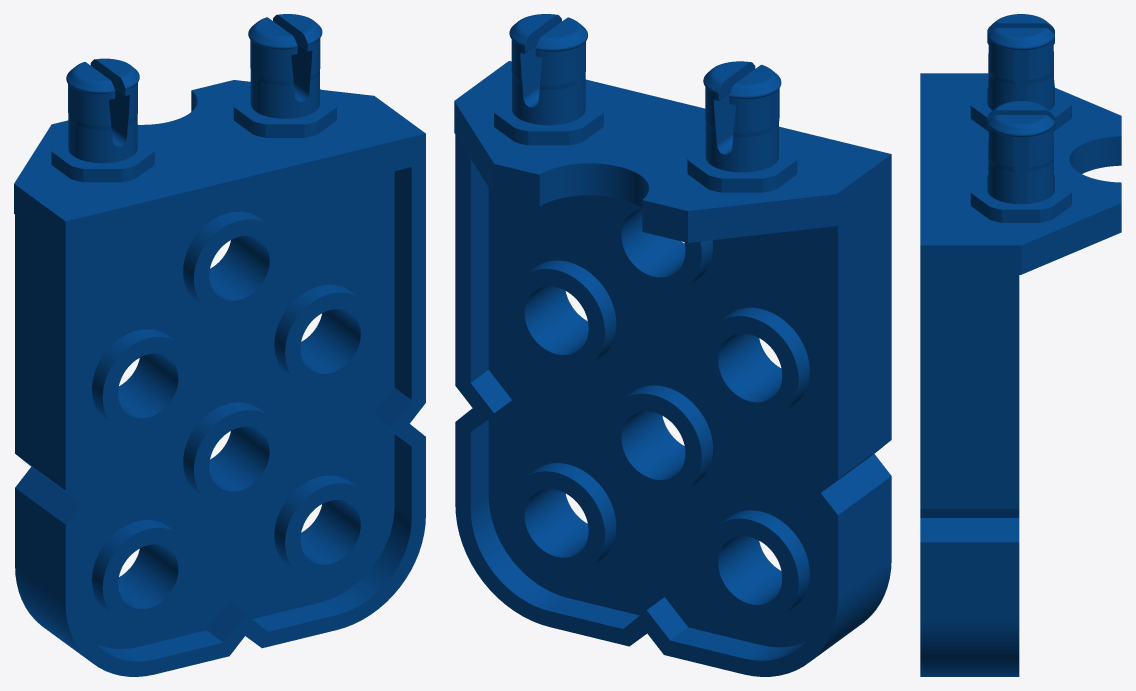
3 views of the same model, side by side, from view 1: azimuth 30°, elevation 25°; view 2: azimuth 150°, elevation 25°; view 3: azimuth 270°, elevation 25° (orthographic). The views are drawn at different scales.
Visible parts, largest first — view 1: 228-2500-2296; view 2: 228-2500-2296; view 3: 228-2500-2296.
Boxes of the visible parts, <box> form: 228-2500-2296: <box>14,14,425,676</box>; 228-2500-2296: <box>454,14,891,676</box>; 228-2500-2296: <box>920,14,1121,676</box>.
Size of the model in its own units: 0.0251 by 0.0377 by 0.0124.
